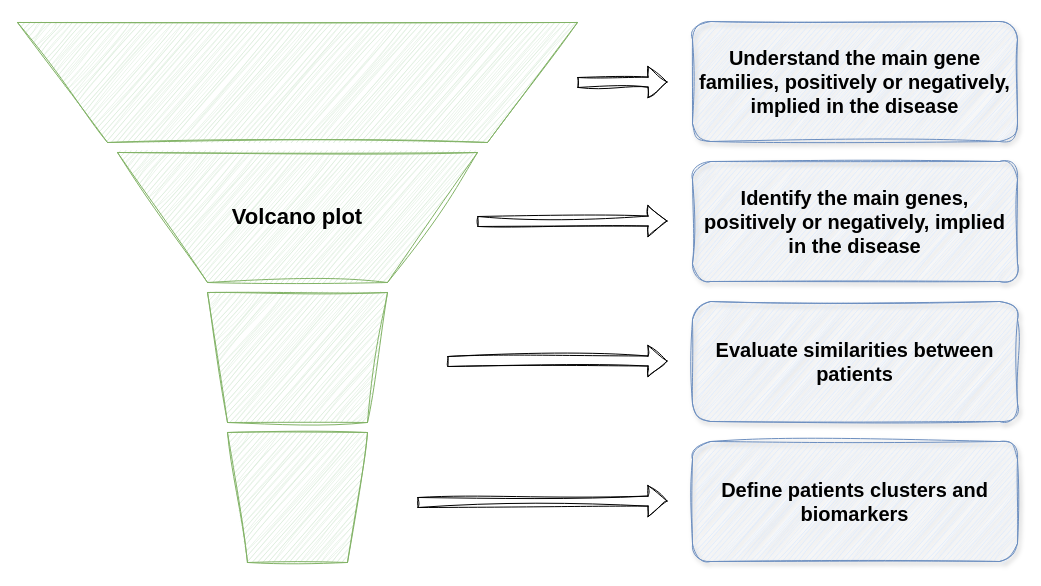
Image size: 1041x586. Some labels were removed from this diagram. Here are the shapes that lost their labels. From the top down, the centre of each, then its label:
At point (297, 82): "Gene Ontology plot".
At point (297, 357): "Principal Component Analaysis".
At point (297, 497): "Cluster map".
